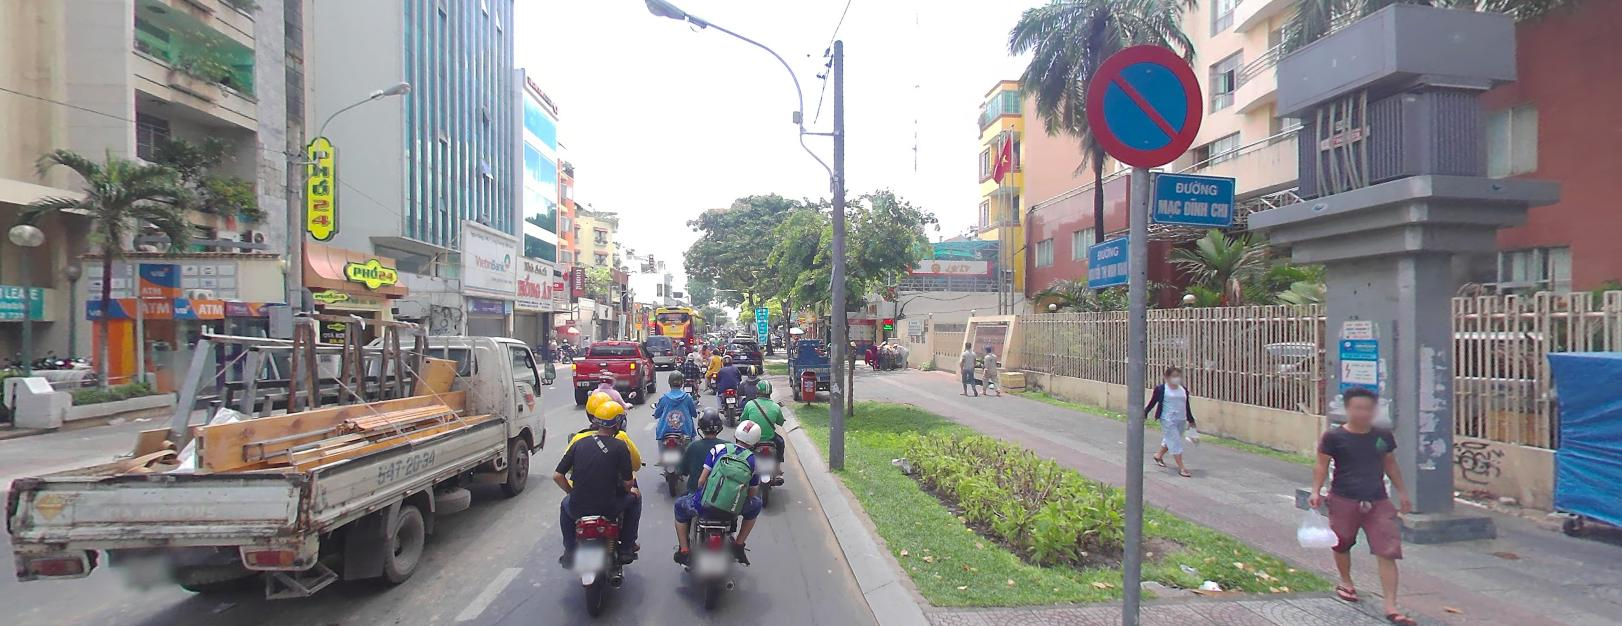Cam dung va do: (1077, 37, 1206, 167)
